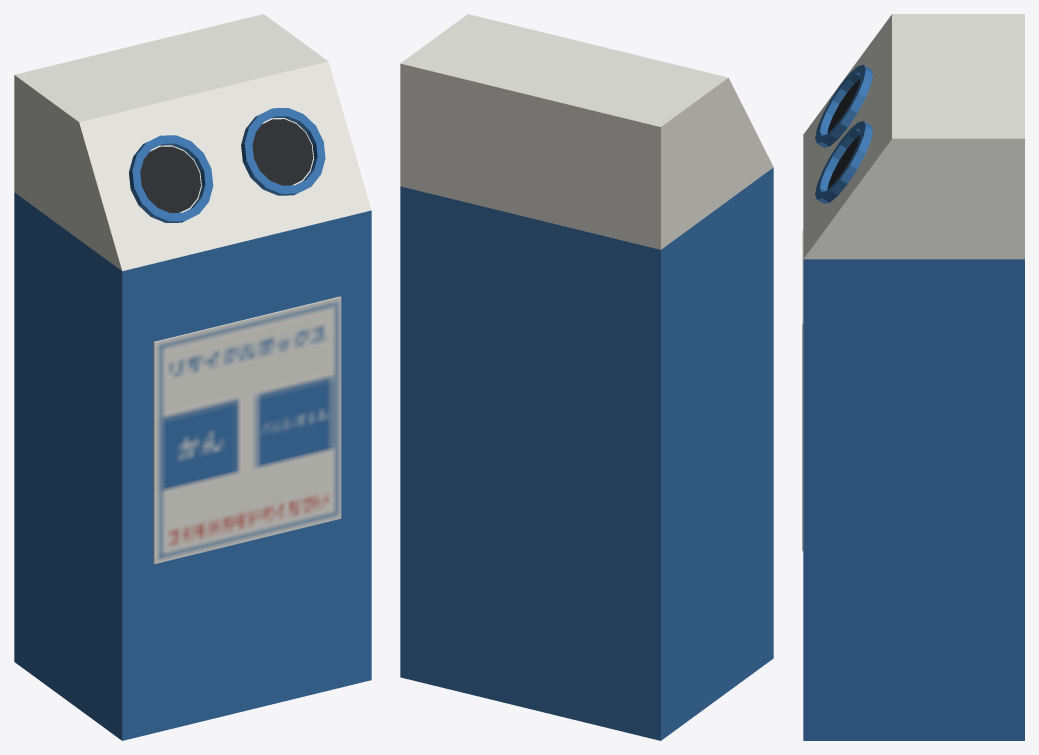
The model's file is SM_Street_RecycleBin_Plastic_01.fbx.
3 views of the same model, side by side, from view 1: azimuth 30°, elevation 25°; view 2: azimuth 150°, elevation 25°; view 3: azimuth 270°, elevation 25° (orthographic). The views are drawn at different scales.
Visible parts, largest first — view 1: SM_Street_RecycleBin_Plastic_01; view 2: SM_Street_RecycleBin_Plastic_01; view 3: SM_Street_RecycleBin_Plastic_01.
Part boxes in pixels (box(x1,y1,x2,y2)): SM_Street_RecycleBin_Plastic_01: box(14, 14, 371, 740); SM_Street_RecycleBin_Plastic_01: box(400, 14, 773, 740); SM_Street_RecycleBin_Plastic_01: box(802, 14, 1024, 740).
Bounding box in the file's own units: 0.4 × 0.9 × 0.302.
Materials: 1 (1 with a texture image).
